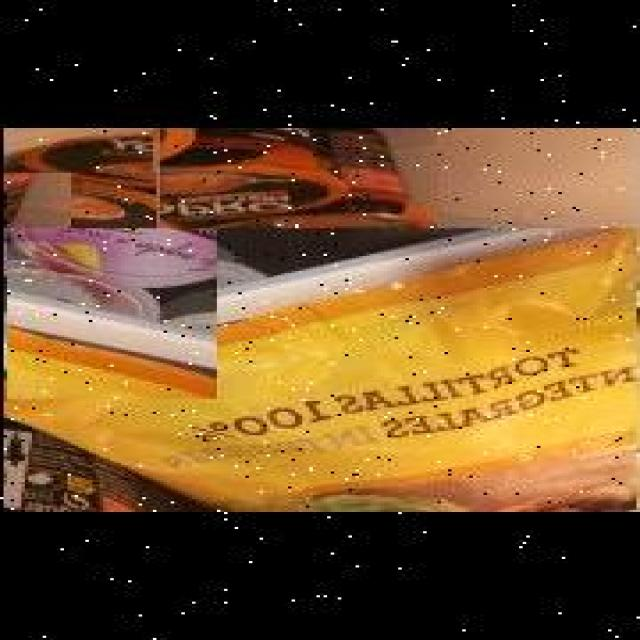tortillas: (0, 228, 636, 511)
yogurt: (11, 128, 348, 307), (3, 173, 214, 399), (153, 128, 434, 228)
